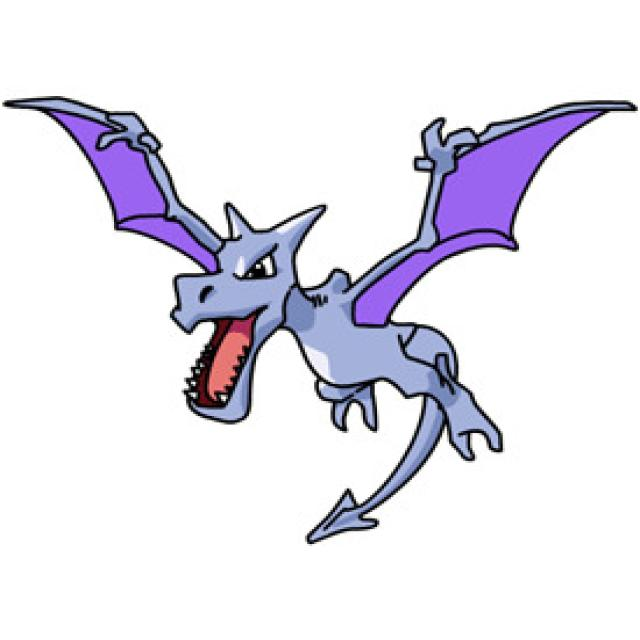Aerodactyl: (88, 108, 507, 462)
